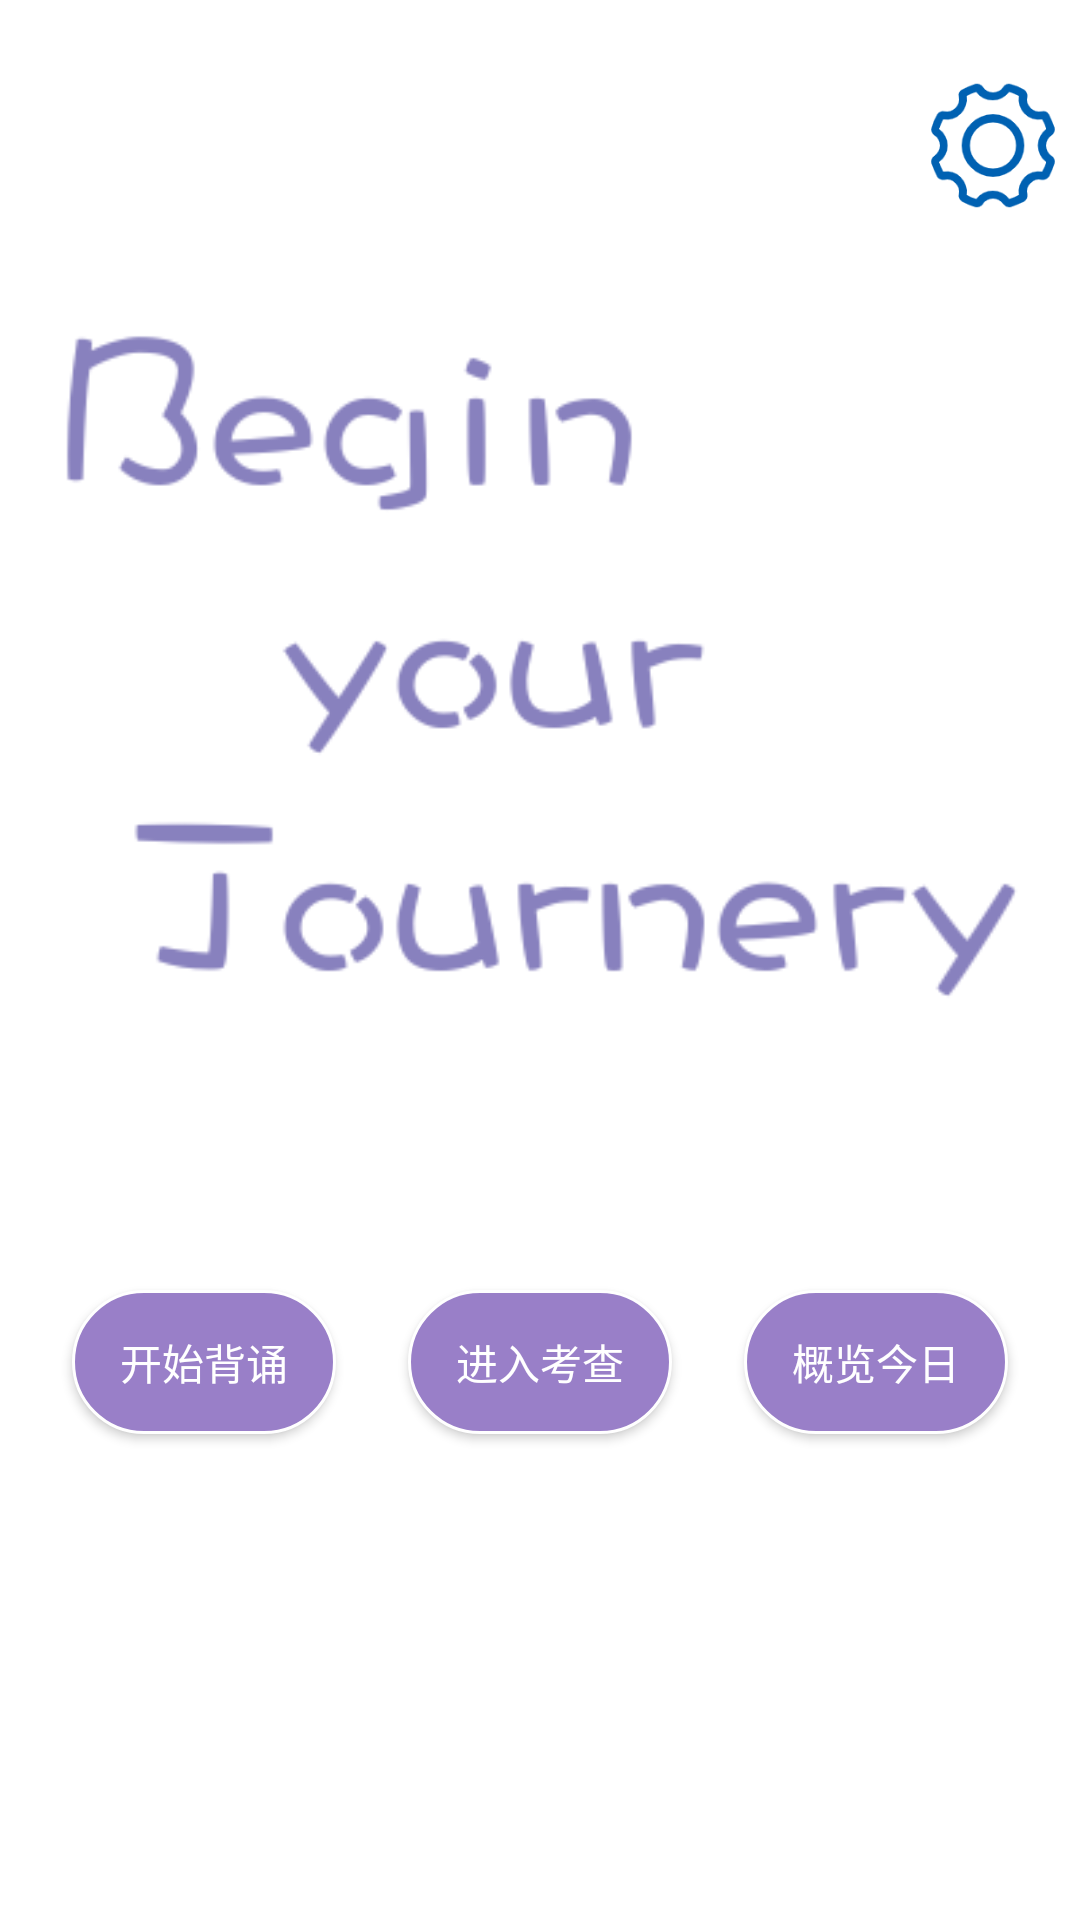

Icon click points for this 1080px x 1920px phone screenshot, format (x,y):
setting: (993,145)
